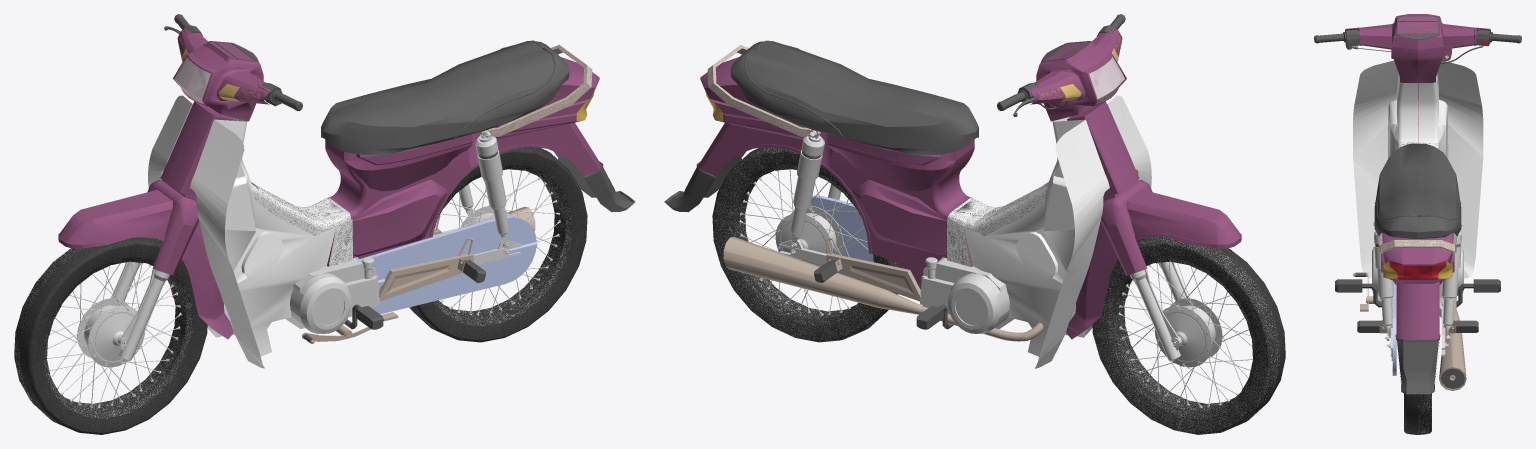
Rendered from motorcycle.dae.
The picture shows the model from 3 angles, left to right: view 1: azimuth 30°, elevation 25°; view 2: azimuth 150°, elevation 25°; view 3: azimuth 270°, elevation 25°; orthographic projection. The views are drawn at different scales.
Parts seen in each view (by area): view 1: Component_6 (×10), Component_4 (×3), Component_47 (×2), Component_2 (×2), group_9, Component_13 (×2), Component_52 (×2), Component_33 (×2), Component_7 (×2), group_4, group_15 (×2), Component_25 (+2 smaller); view 2: Component_6 (×12), Component_4 (×3), Component_47 (×2), Component_2 (×2), Component_13 (×2), group_10, Component_52 (×2), Component_33 (×2), Component_7 (×2), group_4, group_15 (×2), group_9 (+3 smaller); view 3: Component_4 (×2), Component_2 (×2), Component_47 (×4), Component_33 (×2), Component_32 (×2), group_12 (×4), group_10 (×2), Component_6 (×2), group_27 (×2), group_13 (×2), group_19 (×3), Component_25 (×2) (+4 smaller).
Boxes of the visible parts, bbox=[...] form: Component_6 (×10): bbox=[14, 146, 587, 434]; Component_4 (×3): bbox=[148, 95, 352, 368]; Component_47 (×2): bbox=[325, 57, 601, 258]; Component_2 (×2): bbox=[321, 41, 569, 155]; group_9: bbox=[356, 216, 537, 314]; Component_13 (×2): bbox=[58, 189, 233, 339]; Component_52 (×2): bbox=[285, 257, 379, 333]; Component_33 (×2): bbox=[173, 28, 270, 121]; Component_7 (×2): bbox=[160, 101, 232, 197]; group_4: bbox=[152, 188, 198, 275]; group_15 (×2): bbox=[379, 253, 473, 301]; Component_25: bbox=[489, 55, 592, 136]; Component_6 (×12): bbox=[712, 146, 1285, 434]; Component_4 (×3): bbox=[947, 95, 1151, 368]; Component_47 (×2): bbox=[698, 57, 974, 289]; Component_2 (×2): bbox=[730, 41, 978, 155]; Component_13 (×2): bbox=[1066, 189, 1241, 339]; group_10: bbox=[723, 237, 1043, 341]; Component_52 (×2): bbox=[920, 257, 1013, 333]; Component_33 (×2): bbox=[1029, 28, 1126, 121]; Component_7 (×2): bbox=[1067, 101, 1139, 197]; group_4: bbox=[1100, 188, 1147, 275]; group_15 (×2): bbox=[826, 253, 920, 301]; group_9: bbox=[794, 195, 873, 262]; Component_4 (×2): bbox=[1353, 60, 1483, 278]; Component_2 (×2): bbox=[1374, 143, 1461, 238]; Component_47 (×4): bbox=[1381, 232, 1454, 339]; Component_33 (×2): bbox=[1345, 14, 1490, 82]; Component_32 (×2): bbox=[1395, 334, 1440, 394]; group_12 (×4): bbox=[1377, 268, 1458, 326]; group_10 (×2): bbox=[1439, 297, 1466, 388]; Component_6 (×2): bbox=[1404, 393, 1431, 434]; group_27 (×2): bbox=[1396, 15, 1439, 39]; group_13 (×2): bbox=[1335, 279, 1500, 292]; group_19 (×3): bbox=[1314, 29, 1521, 46]; Component_25 (×2): bbox=[1379, 233, 1456, 253].
Bounding box in the file's own units: 67.32 × 23.5 × 37.26.
